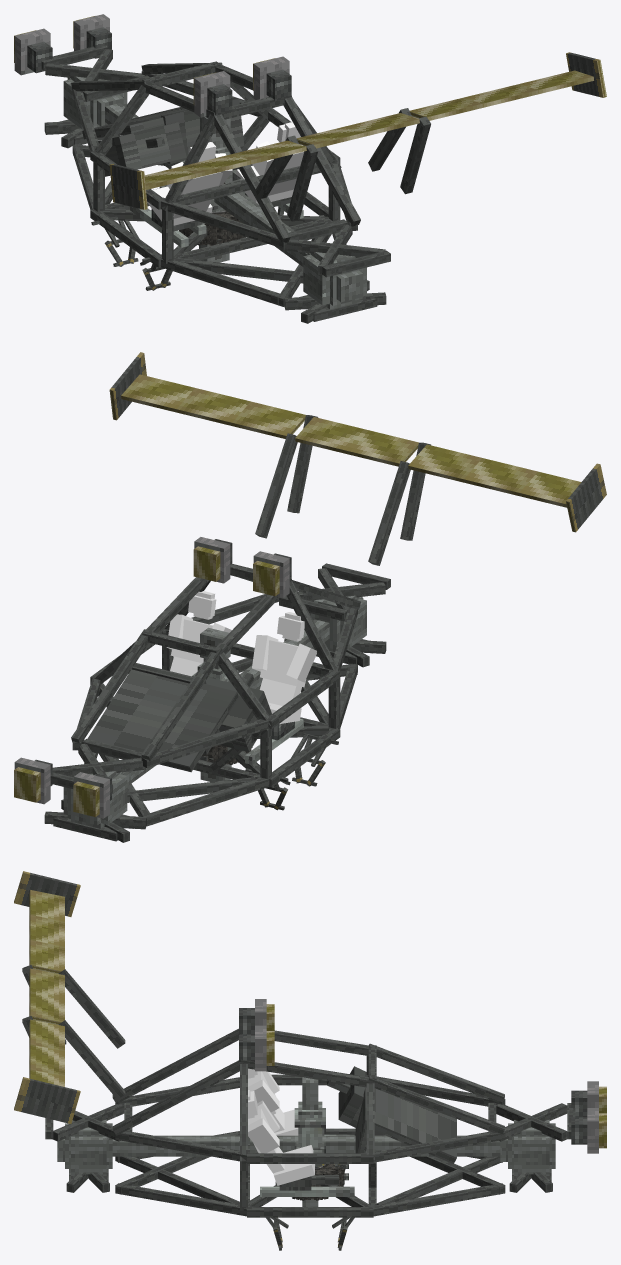
Rendered from m6-owner-full-rig-r3.glb.
3 renders of one model, top to bottom at view 1: azimuth 30°, elevation 25°; view 2: azimuth 150°, elevation 25°; view 3: azimuth 270°, elevation 25°, orthographic. The views are drawn at different scales.
Visible parts, largest first — view 1: JV_R3_Real_owner_chassis, JV_R3_Real_owner_fl_wheel, JV_R3_Real_owner_rl_chassis_bracket_socket_chassismount, JV_R3_Real_owner_fl_coilover_upper, JV_R3_Real_owner_rr_chassis_bracket_socket_chassismount; view 2: JV_R3_Real_owner_chassis, JV_R3_Real_owner_rr_chassis_bracket_socket_chassismount, JV_R3_Real_owner_fl_coilover_upper; view 3: JV_R3_Real_owner_chassis, JV_R3_Real_owner_fl_coilover_upper.
Part boxes in pixels (x1,y1,x2,y2): JV_R3_Real_owner_chassis: [14, 14, 606, 323]; JV_R3_Real_owner_fl_wheel: [179, 210, 245, 245]; JV_R3_Real_owner_rl_chassis_bracket_socket_chassismount: [91, 216, 139, 266]; JV_R3_Real_owner_fl_coilover_upper: [200, 117, 232, 209]; JV_R3_Real_owner_rr_chassis_bracket_socket_chassismount: [140, 254, 172, 290]; JV_R3_Real_owner_chassis: [14, 352, 606, 842]; JV_R3_Real_owner_rr_chassis_bracket_socket_chassismount: [291, 733, 338, 786]; JV_R3_Real_owner_fl_coilover_upper: [192, 627, 238, 682]; JV_R3_Real_owner_chassis: [14, 871, 606, 1217]; JV_R3_Real_owner_fl_coilover_upper: [294, 1077, 325, 1147].
Size of the model in its own units: 7.81 by 4.14 by 9.37.
5 materials, 3 textured.
